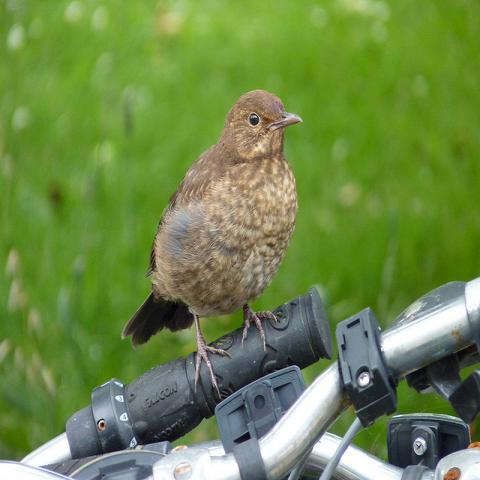motorcycle: (0, 272, 479, 475)
